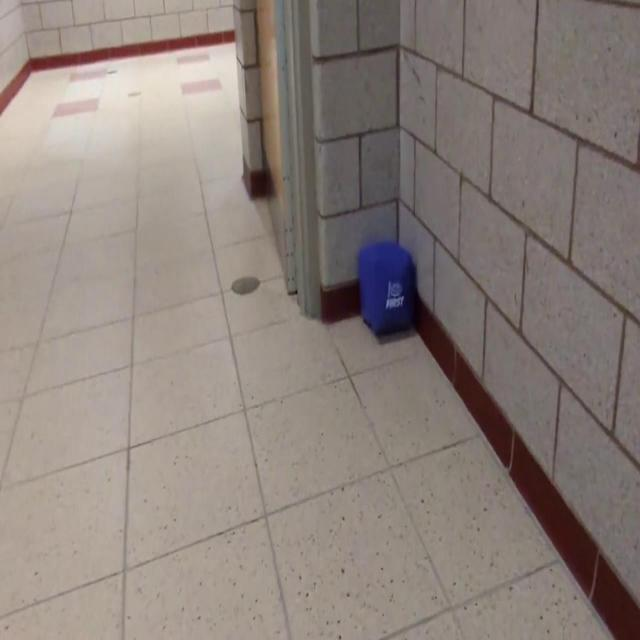frc_cube: (359, 239, 413, 341)
